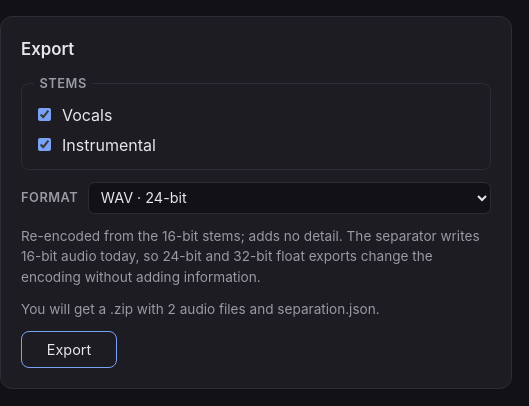
Test: ExportPanel stem selection › disables export when every stem is deselected
The image size is (529, 406).
Step 1. Click the checkbox labelled "vocals" → (44,115), box [38, 108, 51, 122]
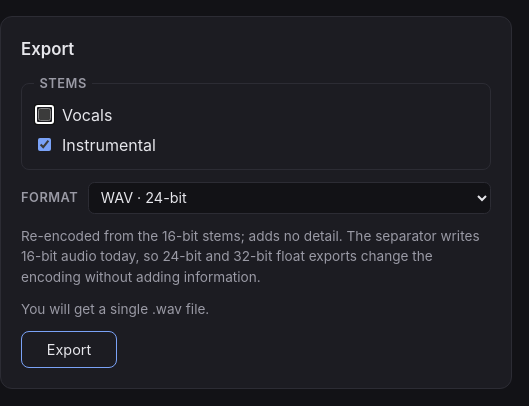
Step 2. Click the checkbox labelled "instrumental" → (44,145), box [38, 138, 51, 151]
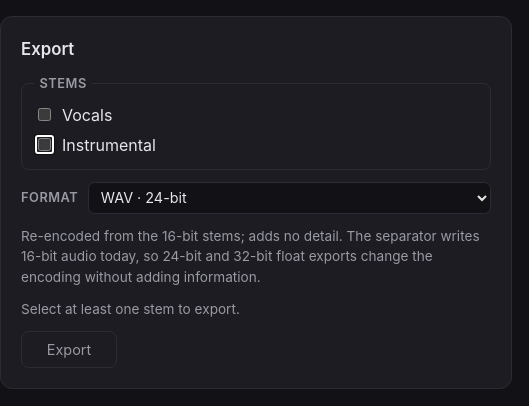
Now the button "Export" is disabled, box [21, 331, 117, 368]
Now the text "Select at least one stem to export." is shown, box [21, 301, 240, 317]
